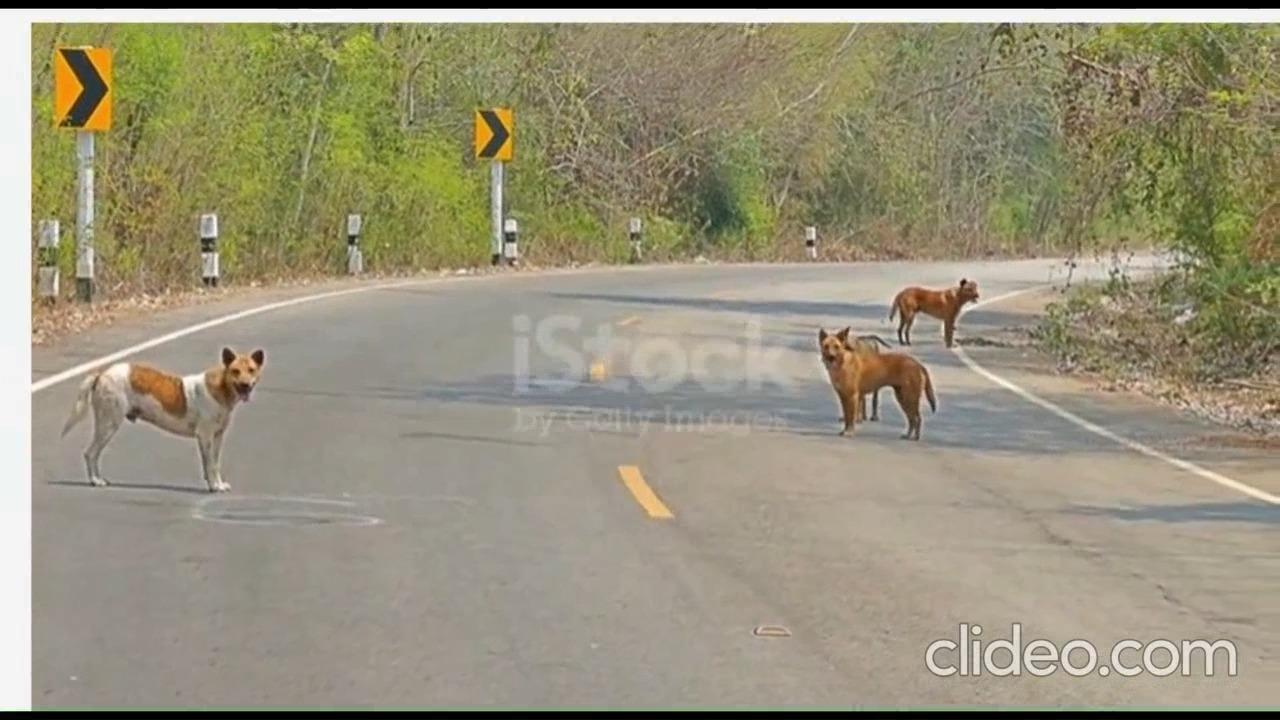dog: (54, 339, 273, 499), (813, 325, 937, 440), (887, 265, 987, 346)
